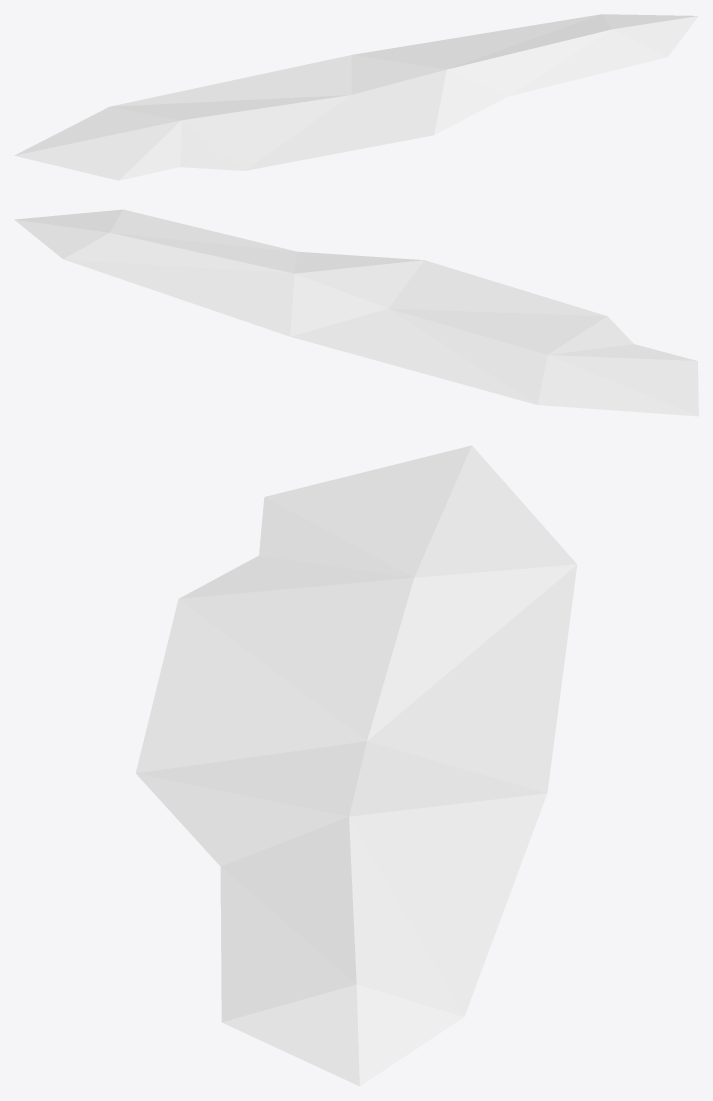
Rendered from SM_Env_Flowers_03.glb.
3 renders of one model, top to bottom at view 1: azimuth 30°, elevation 25°; view 2: azimuth 150°, elevation 25°; view 3: azimuth 270°, elevation 25°, orthographic. The views are drawn at different scales.
Parts seen in each view (by area): view 1: SM_Env_Flowers_03; view 2: SM_Env_Flowers_03; view 3: SM_Env_Flowers_03.
Part boxes in pixels (x1,y1,x2,y2): SM_Env_Flowers_03: (14,14,698,180); SM_Env_Flowers_03: (14,209,698,416); SM_Env_Flowers_03: (135,445,577,1086).
Size of the model in its own units: 1.42 by 0.0217 by 0.4128.
Materials: 1 (1 with a texture image).
